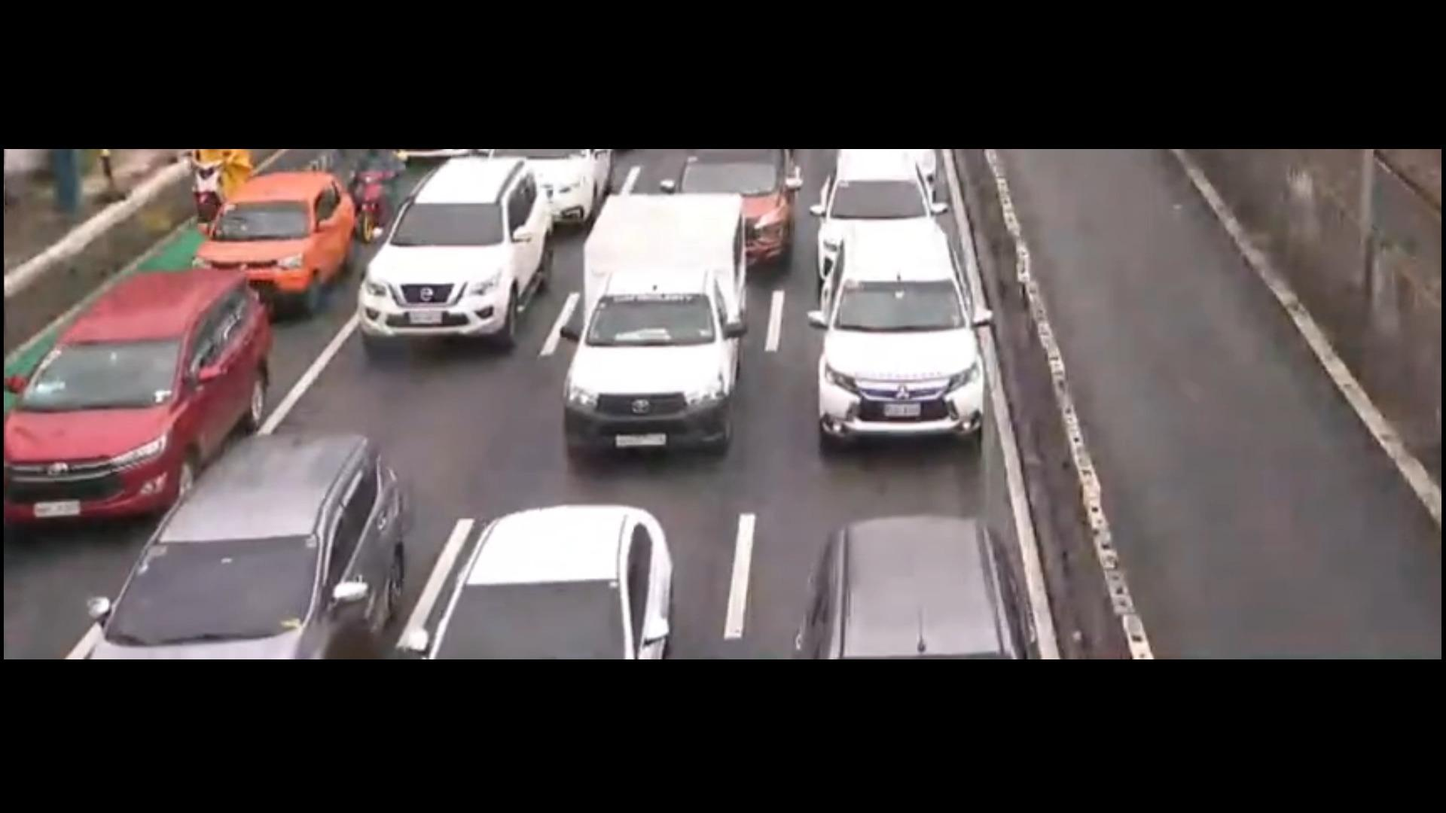Motorcycle: (167, 132, 258, 224), (342, 147, 401, 242)
SUV: (0, 251, 283, 569), (83, 414, 409, 669), (788, 200, 1011, 454), (342, 158, 569, 365), (798, 147, 970, 289)
Sedan: (428, 495, 697, 662), (188, 166, 366, 314)
Truck: (536, 189, 767, 459)
